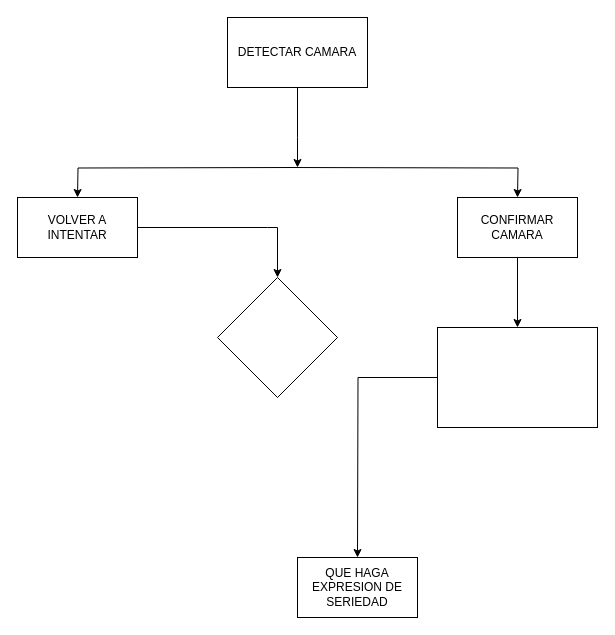
This 615x635 diagram has some shape labels left out. The shapes that lost their labels are listed below. From the top down, each one's centre as x and y in pixels, then its label:
At [277,337]: "SI OCURRE ALGUN FALLO".
At [517,377]: "MOVER LA CABEZA HACIA ARRIBA Y ABAJO PARA QUE HAGA COMO SI MIRASE A LOS LADOS".
